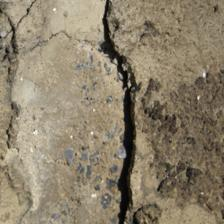Crack: (101, 2, 142, 222)
